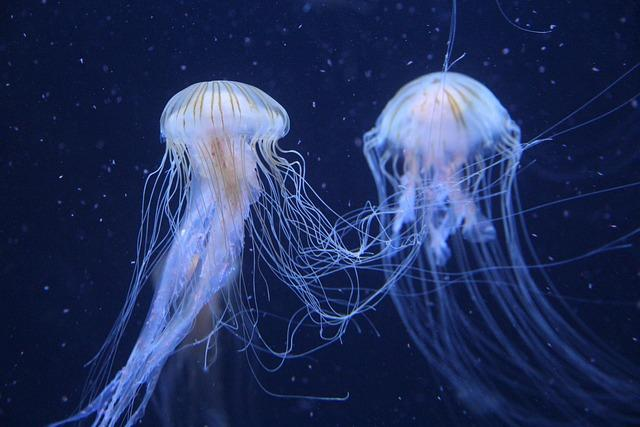Non_Gorille: (121, 23, 554, 388)
